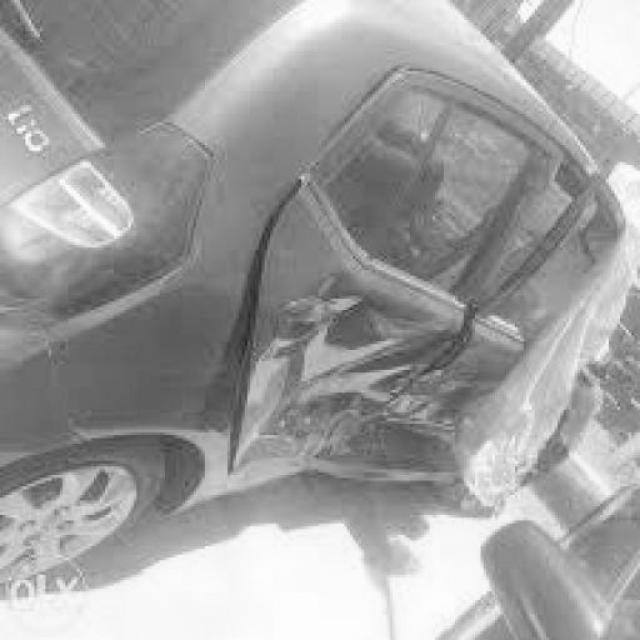car damage: (211, 185, 583, 485)
